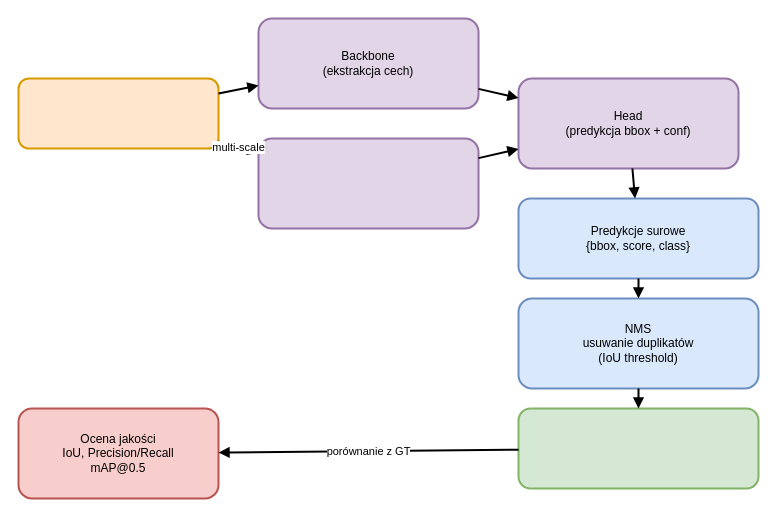
The diagram is 776 pixels wide and 516 high, and some of its shapes have lost their labels. The shapes that lost their labels are listed below. From the top down, each one's box as (x1, y1, x2, y2) in pixels, then its label:
(17, 77, 219, 149): Obraz wejściowy
(257, 137, 479, 229): Neck (FPN/PAN) łączenie skali
(517, 407, 759, 489): Wynik bbox okularów + confidence
